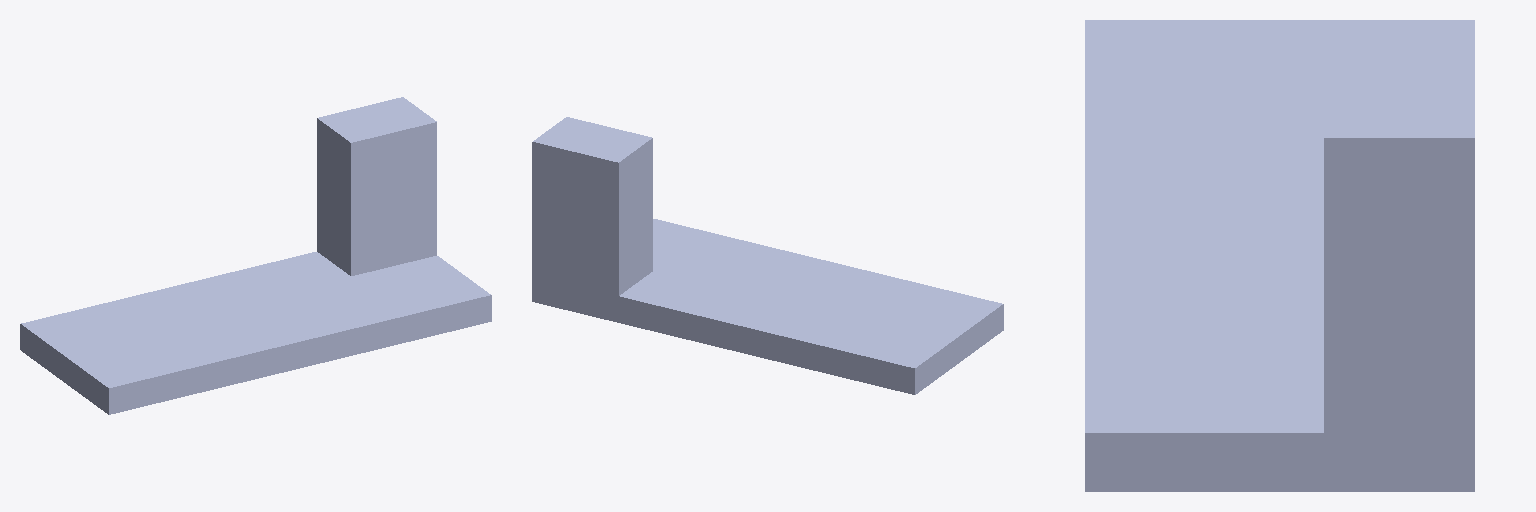
The robot description file, URDF, robot "partTest.SLDASM":
<?xml version="1.0" encoding="utf-8"?>
<!-- This URDF was automatically created by SolidWorks to URDF Exporter! Originally created by [author] ([email redacted]) 
     Commit Version: 1.6.0-4-g7f85cfe  Build Version: 1.6.7995.38578
     For more information, please see http://wiki.ros.org/sw_urdf_exporter -->
<robot
  name="partTest.SLDASM">
  <link
    name="base_link">
    <inertial>
      <origin
        xyz="0.0176579337397148 0.00558601942342901 0.014118956827273"
        rpy="0 0 0" />
      <mass
        value="0.129303884756414" />
      <inertia
        ixx="7.15683187741353E-05"
        ixy="-2.92052500448507E-05"
        ixz="-4.767642109723E-05"
        iyy="0.000298375465067587"
        iyz="-1.50822524432584E-05"
        izz="0.000302824798325942" />
    </inertial>
    <visual>
      <origin
        xyz="0 0 0"
        rpy="0 0 0" />
      <geometry>
        <mesh
          filename="package://partTest.SLDASM/meshes/base_link.STL" />
      </geometry>
      <material
        name="">
        <color
          rgba="0.792156862745098 0.819607843137255 0.933333333333333 1" />
      </material>
    </visual>
    <collision>
      <origin
        xyz="0 0 0"
        rpy="0 0 0" />
      <geometry>
        <mesh
          filename="package://partTest.SLDASM/meshes/base_link.STL" />
      </geometry>
    </collision>
  </link>
</robot>

--- Facts derived from the render (not from the file) ---
Views: 3 orthographic renders of the robot side by side, from view 1: azimuth 30°, elevation 25°; view 2: azimuth 150°, elevation 25°; view 3: azimuth 270°, elevation 25°.
Model partTest.SLDASM with 1 links and 0 joints (none), rooted at base_link, posed all joints at 0.
Links seen in each view (by area): view 1: base_link; view 2: base_link; view 3: base_link.
Boxes of the visible links, x1,y1,x2,y2 form: base_link: (20,97,491,414); base_link: (532,117,1003,394); base_link: (1085,20,1474,491).
Bounding box of the posed robot: 0.15 × 0.06 × 0.06 m (x, y, z).
1 mesh visuals loaded from 1 distinct referenced files (1 binary STL).
